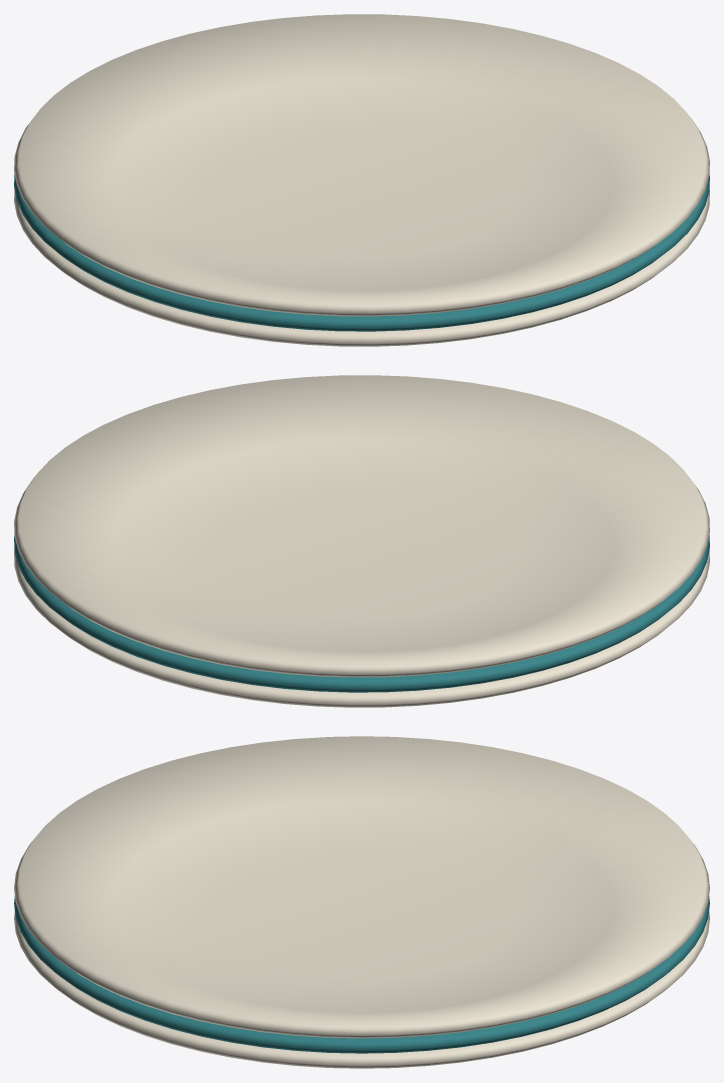
File: universal-plate-set.glb
The picture shows the model from 3 angles, top to bottom: view 1: azimuth 30°, elevation 25°; view 2: azimuth 150°, elevation 25°; view 3: azimuth 270°, elevation 25°; orthographic projection.
Parts seen in each view (by area): view 1: Ceramic plate.002, Ceramic plate.001, Ceramic plate; view 2: Ceramic plate.002, Ceramic plate.001, Ceramic plate; view 3: Ceramic plate.002, Ceramic plate, Ceramic plate.001.
Part boxes in pixels (left/top/right/bottom): Ceramic plate.002: left=14, top=14, right=709, bottom=316; Ceramic plate.001: left=14, top=174, right=709, bottom=331; Ceramic plate: left=14, top=189, right=709, bottom=346; Ceramic plate.002: left=14, top=375, right=709, bottom=677; Ceramic plate.001: left=14, top=535, right=709, bottom=692; Ceramic plate: left=14, top=550, right=709, bottom=707; Ceramic plate.002: left=14, top=736, right=709, bottom=1038; Ceramic plate: left=14, top=911, right=709, bottom=1068; Ceramic plate.001: left=14, top=896, right=709, bottom=1053.
Bounding box in the file's own units: 0.22 × 0.027 × 0.22.
Materials: 2 (2 with a texture image).
